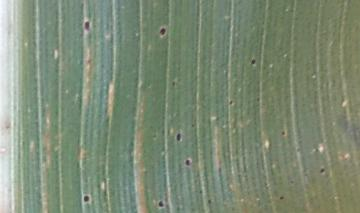tarspot: (83, 19, 91, 31), (158, 26, 167, 36), (82, 194, 90, 203), (183, 158, 191, 167), (196, 186, 204, 195), (319, 164, 325, 175), (157, 200, 164, 209), (176, 132, 182, 142), (249, 57, 256, 65), (279, 128, 286, 136), (207, 196, 213, 205), (227, 98, 234, 105), (278, 195, 285, 201), (171, 79, 176, 87), (190, 121, 195, 129)
